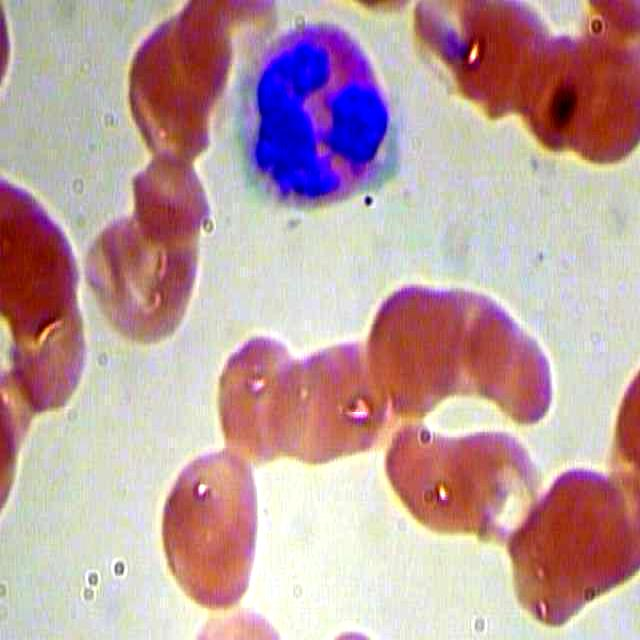RBC: (146, 444, 273, 612), (79, 193, 208, 352), (211, 329, 316, 480), (264, 331, 351, 469), (466, 308, 555, 427)
WBC: (227, 13, 399, 204)
